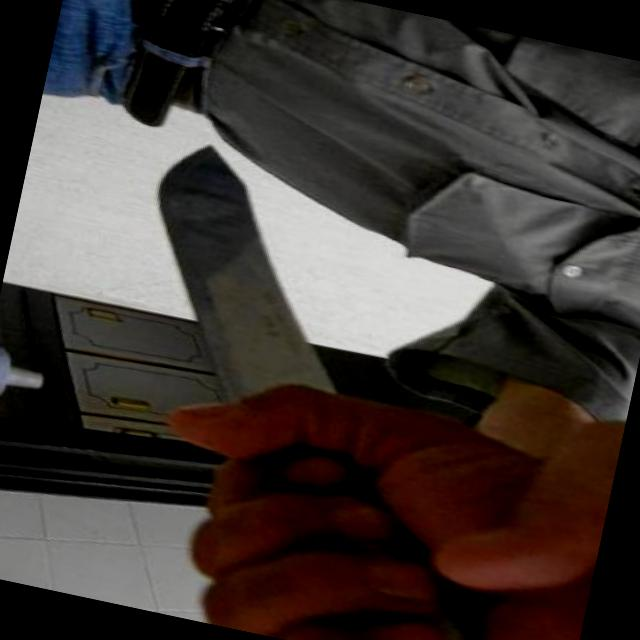knife: (78, 118, 486, 562)
